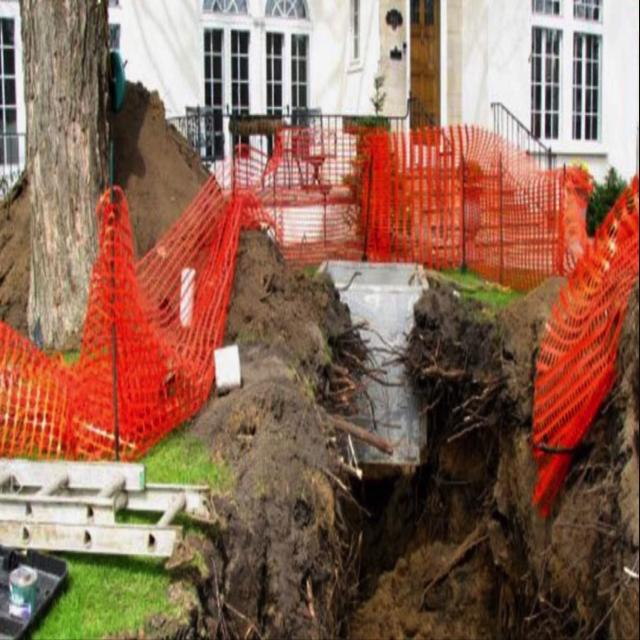Severely_Damaged: (195, 196, 619, 640)
